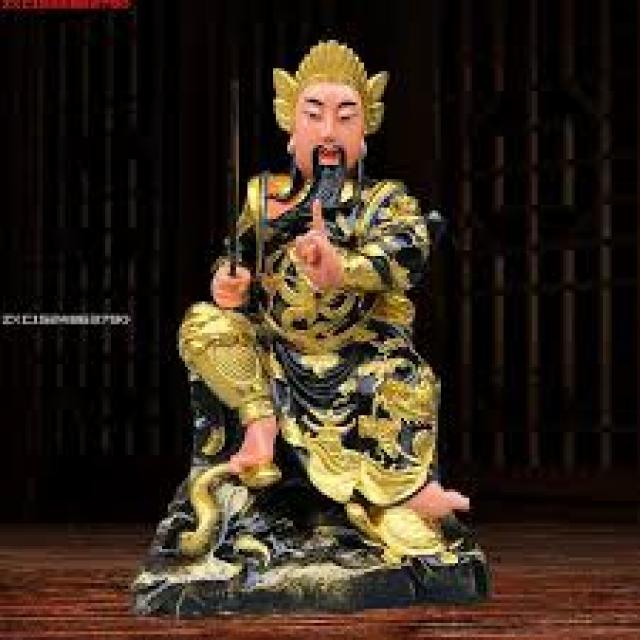Xuan wu: (178, 37, 472, 518)
